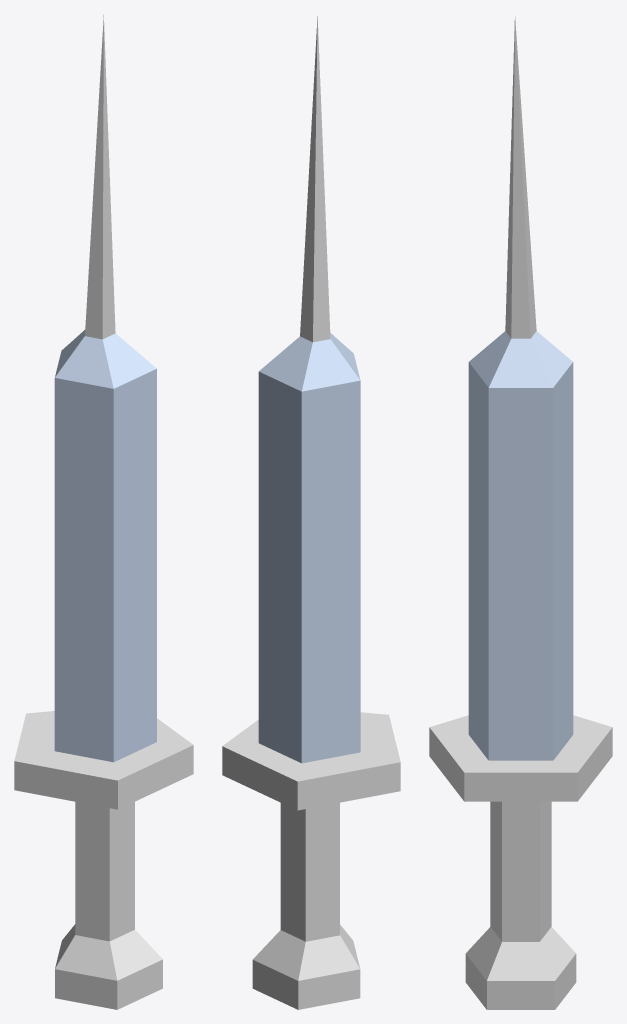
The model's file is Vaccine.fbx.
The picture shows the model from 3 angles, left to right: view 1: azimuth 30°, elevation 25°; view 2: azimuth 150°, elevation 25°; view 3: azimuth 270°, elevation 25°; orthographic projection.
Visible parts, largest first — view 1: Vaccines; view 2: Vaccines; view 3: Vaccines.
Part boxes in pixels (box(x1,y1,x2,y2)): Vaccines: box(14, 14, 193, 1009); Vaccines: box(222, 16, 400, 1009); Vaccines: box(429, 16, 612, 1009).
Bounding box in the file's own units: 0.0543 × 0.3348 × 0.0571.
